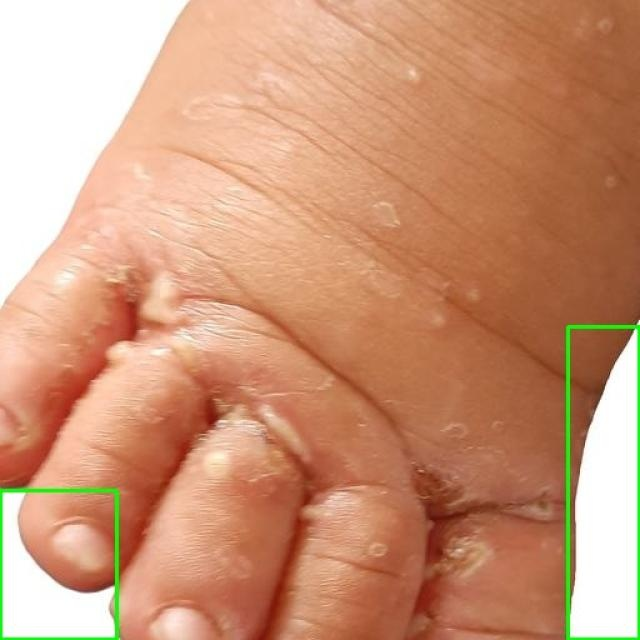Scabies: (568, 326, 639, 639), (0, 490, 116, 639)
